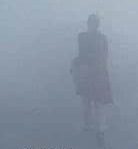person: (69, 13, 116, 135)
